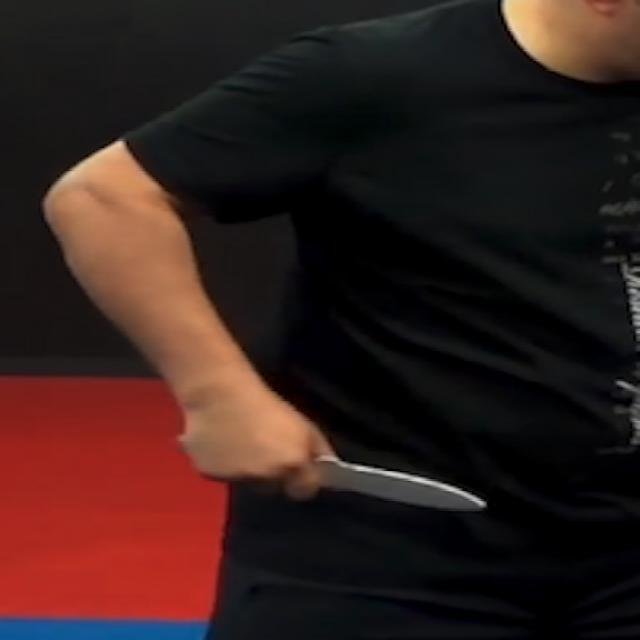suspicion: (30, 6, 493, 526), (318, 452, 490, 520)
